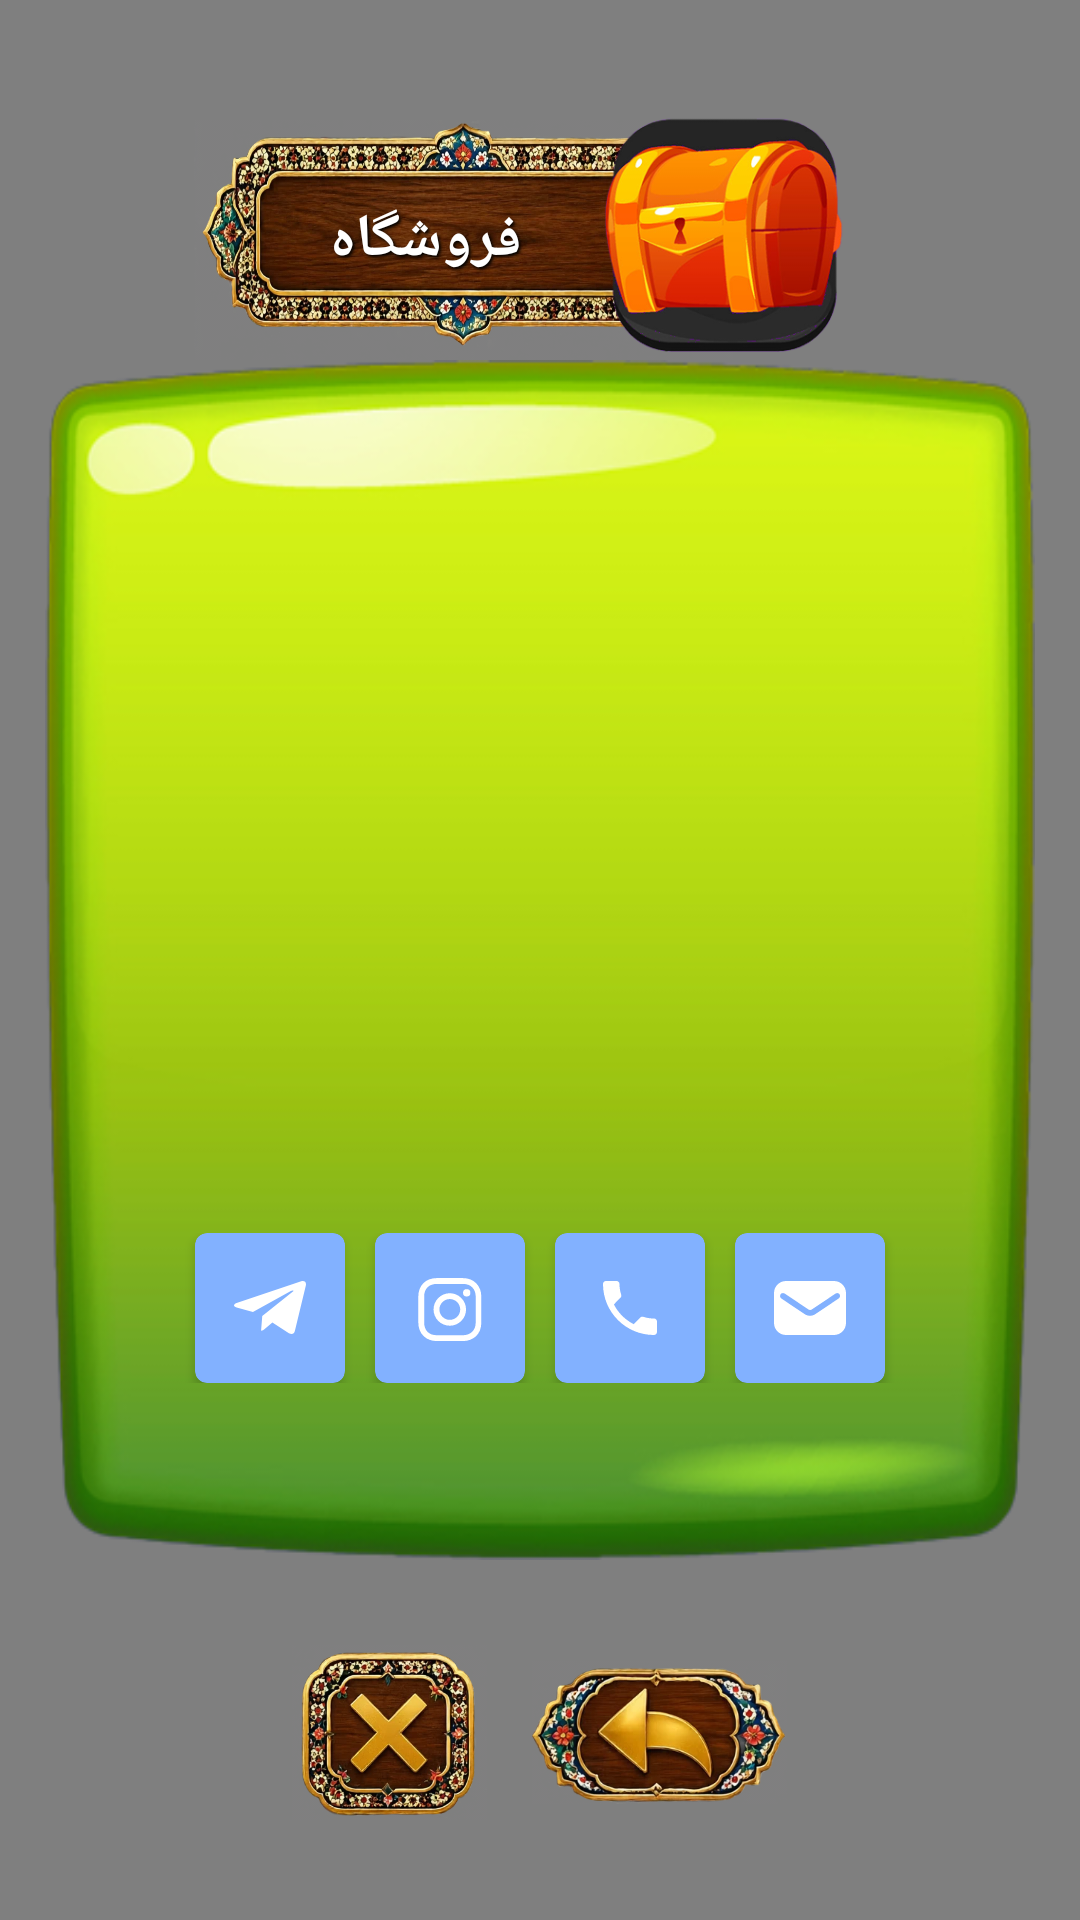

Named icons in this screenshot (1080*1920) and their centers, (x=x, y=y):
back: (x=658, y=1735)
close: (x=388, y=1734)
email letter mail message: (x=810, y=1308)
local phone: (x=630, y=1308)
sandogh: (x=735, y=240)
